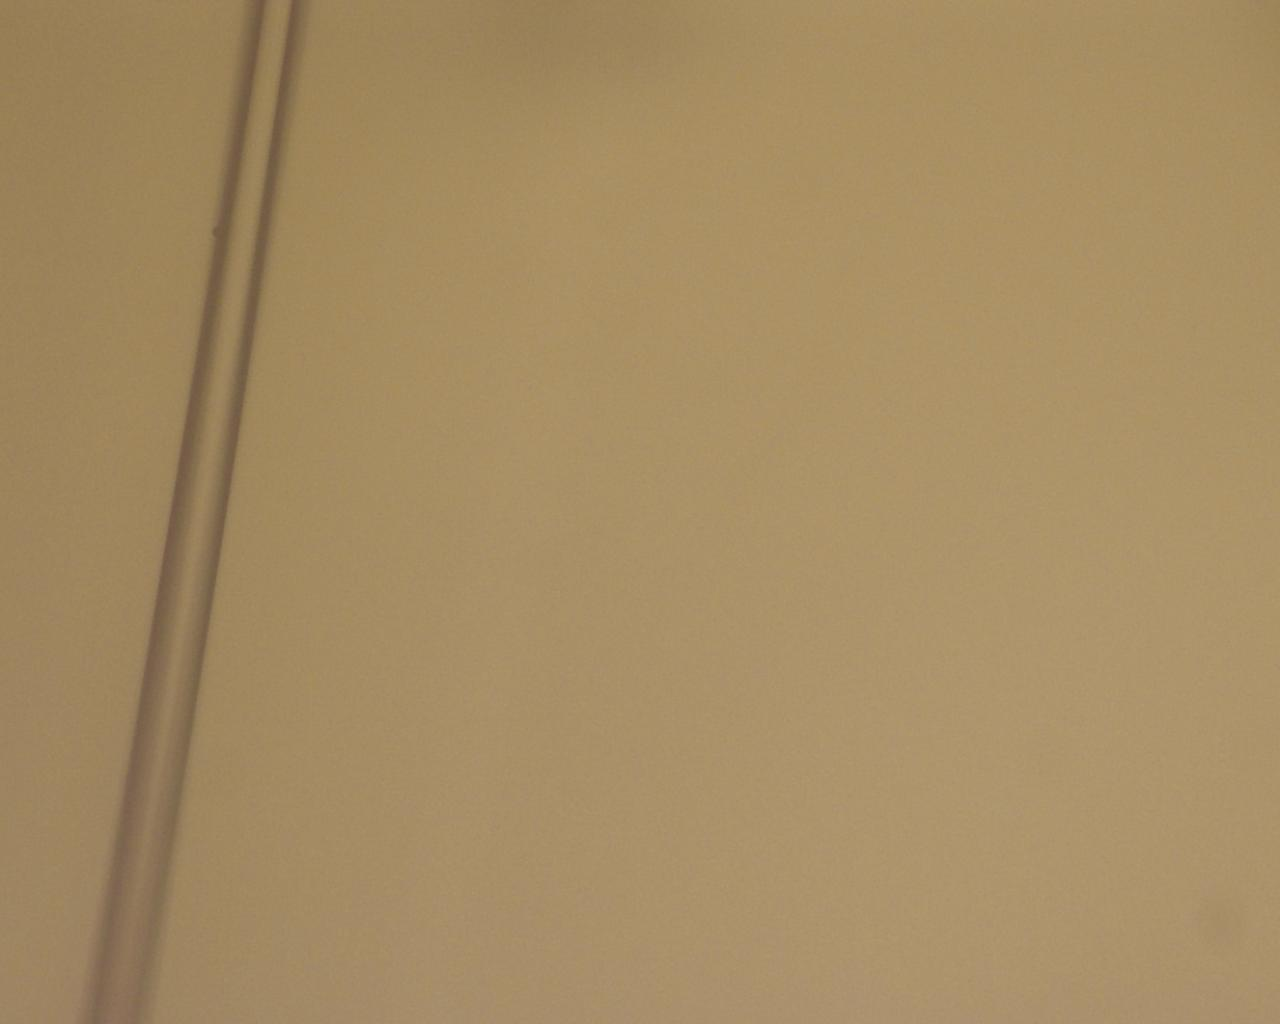fiber: (0, 747, 897, 990), (0, 47, 877, 156), (897, 365, 1280, 478)
